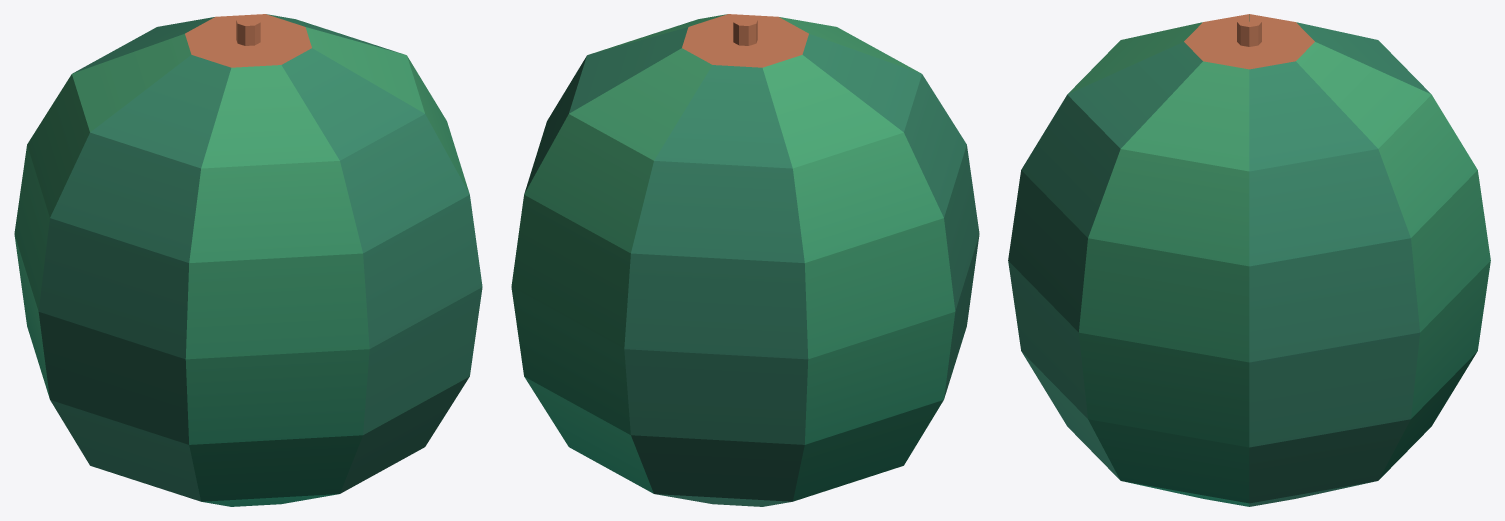
Rendered from watermelon.glb.
The picture shows the model from 3 angles, left to right: view 1: azimuth 30°, elevation 25°; view 2: azimuth 150°, elevation 25°; view 3: azimuth 270°, elevation 25°; orthographic projection.
Parts seen in each view (by area): view 1: geometry_0; view 2: geometry_0; view 3: geometry_0.
Boxes of the visible parts, x1,y1,x2,y2 form: geometry_0: (14, 14, 482, 506); geometry_0: (511, 14, 979, 506); geometry_0: (1008, 14, 1490, 506).
Size of the model in its own units: 0.7939 by 0.83 by 0.7939.
